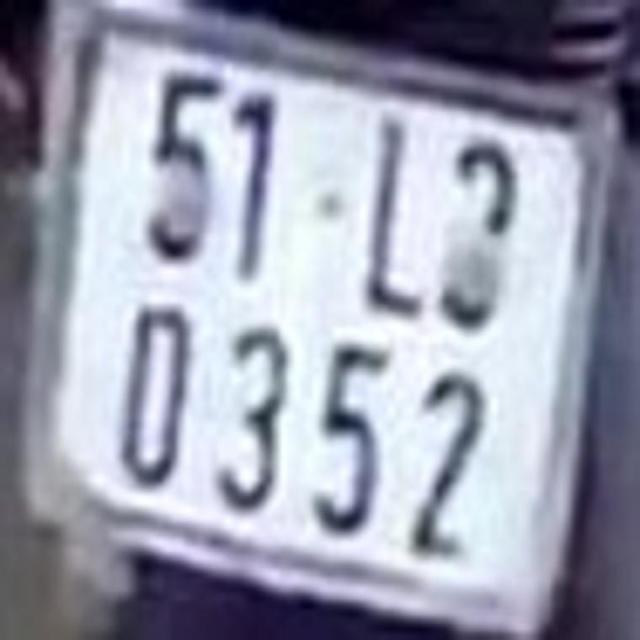1: (229, 87, 275, 280)
2: (411, 368, 485, 560)
3: (441, 135, 519, 330), (220, 325, 284, 512)
5: (314, 339, 387, 535), (148, 66, 219, 263)
D: (120, 304, 188, 488)
L: (362, 112, 430, 318)
